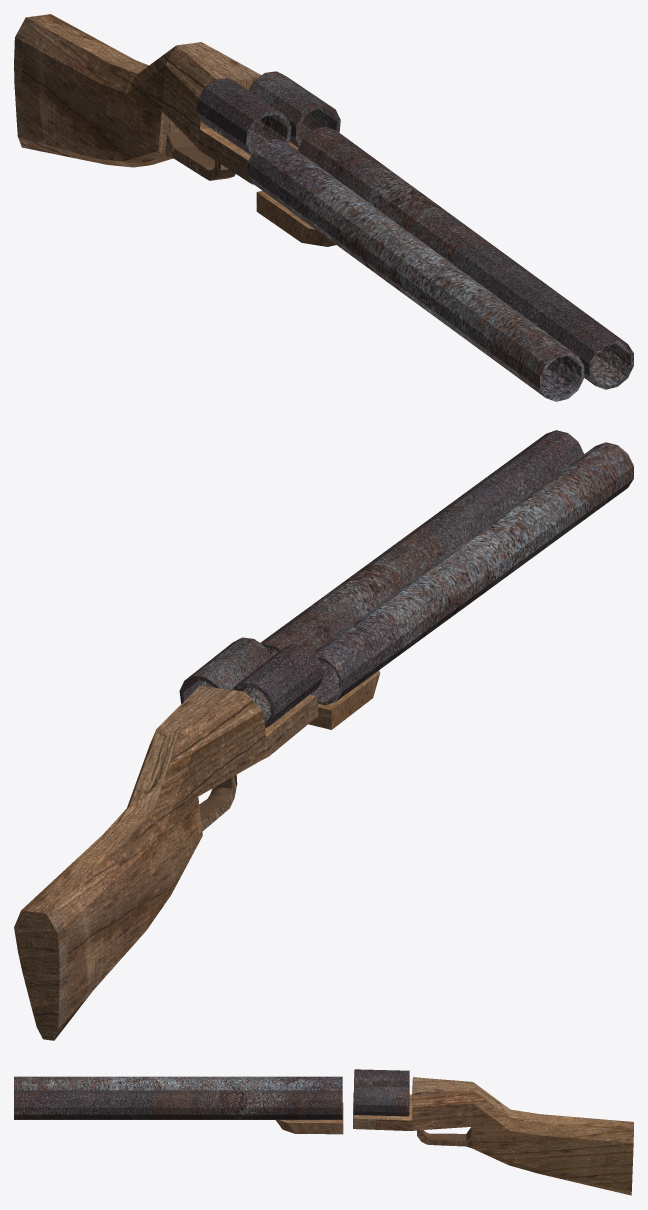
File: DB Shotgun.fbx
3 renders of one model, top to bottom at view 1: azimuth 30°, elevation 25°; view 2: azimuth 150°, elevation 25°; view 3: azimuth 270°, elevation 25°, orthographic. The views are drawn at different scales.
Visible parts, largest first — view 1: front piece, back piece; view 2: back piece, front piece; view 3: back piece, front piece.
Boxes of the visible parts, box(x1,y1,x2,y2) form: front piece: box(247, 126, 633, 401); back piece: box(14, 14, 340, 184); back piece: box(14, 637, 323, 1040); front piece: box(260, 430, 633, 729); back piece: box(353, 1069, 633, 1195); front piece: box(14, 1076, 343, 1134).
Bounding box in the file's own units: 8.71 × 17.52 × 80.54.
Materials: 2 (2 with a texture image).
